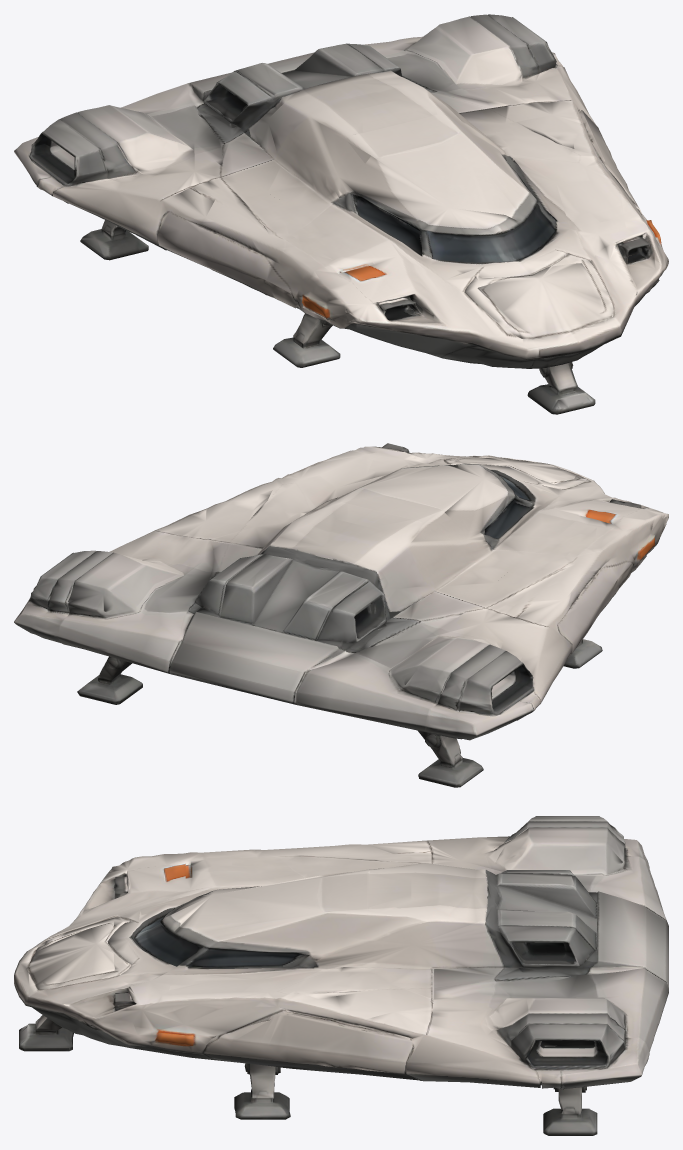
3 renders of one model, top to bottom at view 1: azimuth 30°, elevation 25°; view 2: azimuth 150°, elevation 25°; view 3: azimuth 270°, elevation 25°, orthographic. The views are drawn at different scales.
Visible parts, largest first — view 1: SM_SH01_01_LOD1; view 2: SM_SH01_01_LOD1; view 3: SM_SH01_01_LOD1.
Boxes of the visible parts, x1,y1,x2,y2 form: SM_SH01_01_LOD1: (14, 14, 668, 414); SM_SH01_01_LOD1: (14, 443, 668, 787); SM_SH01_01_LOD1: (14, 816, 668, 1135).
Bounding box in the file's own units: 0.8713 × 0.2508 × 0.9785.
Materials: 1 (1 with a texture image).
